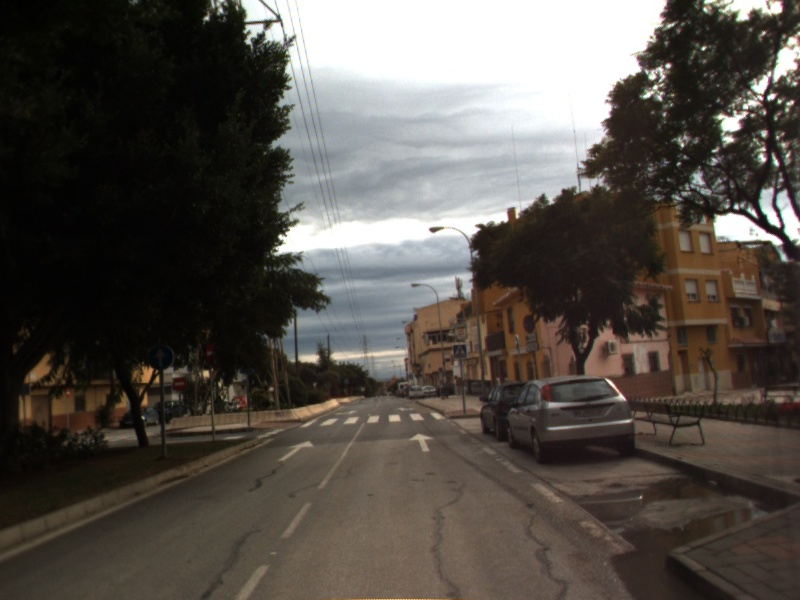STRAIGHT: (276, 439, 316, 463), (407, 431, 436, 453)
